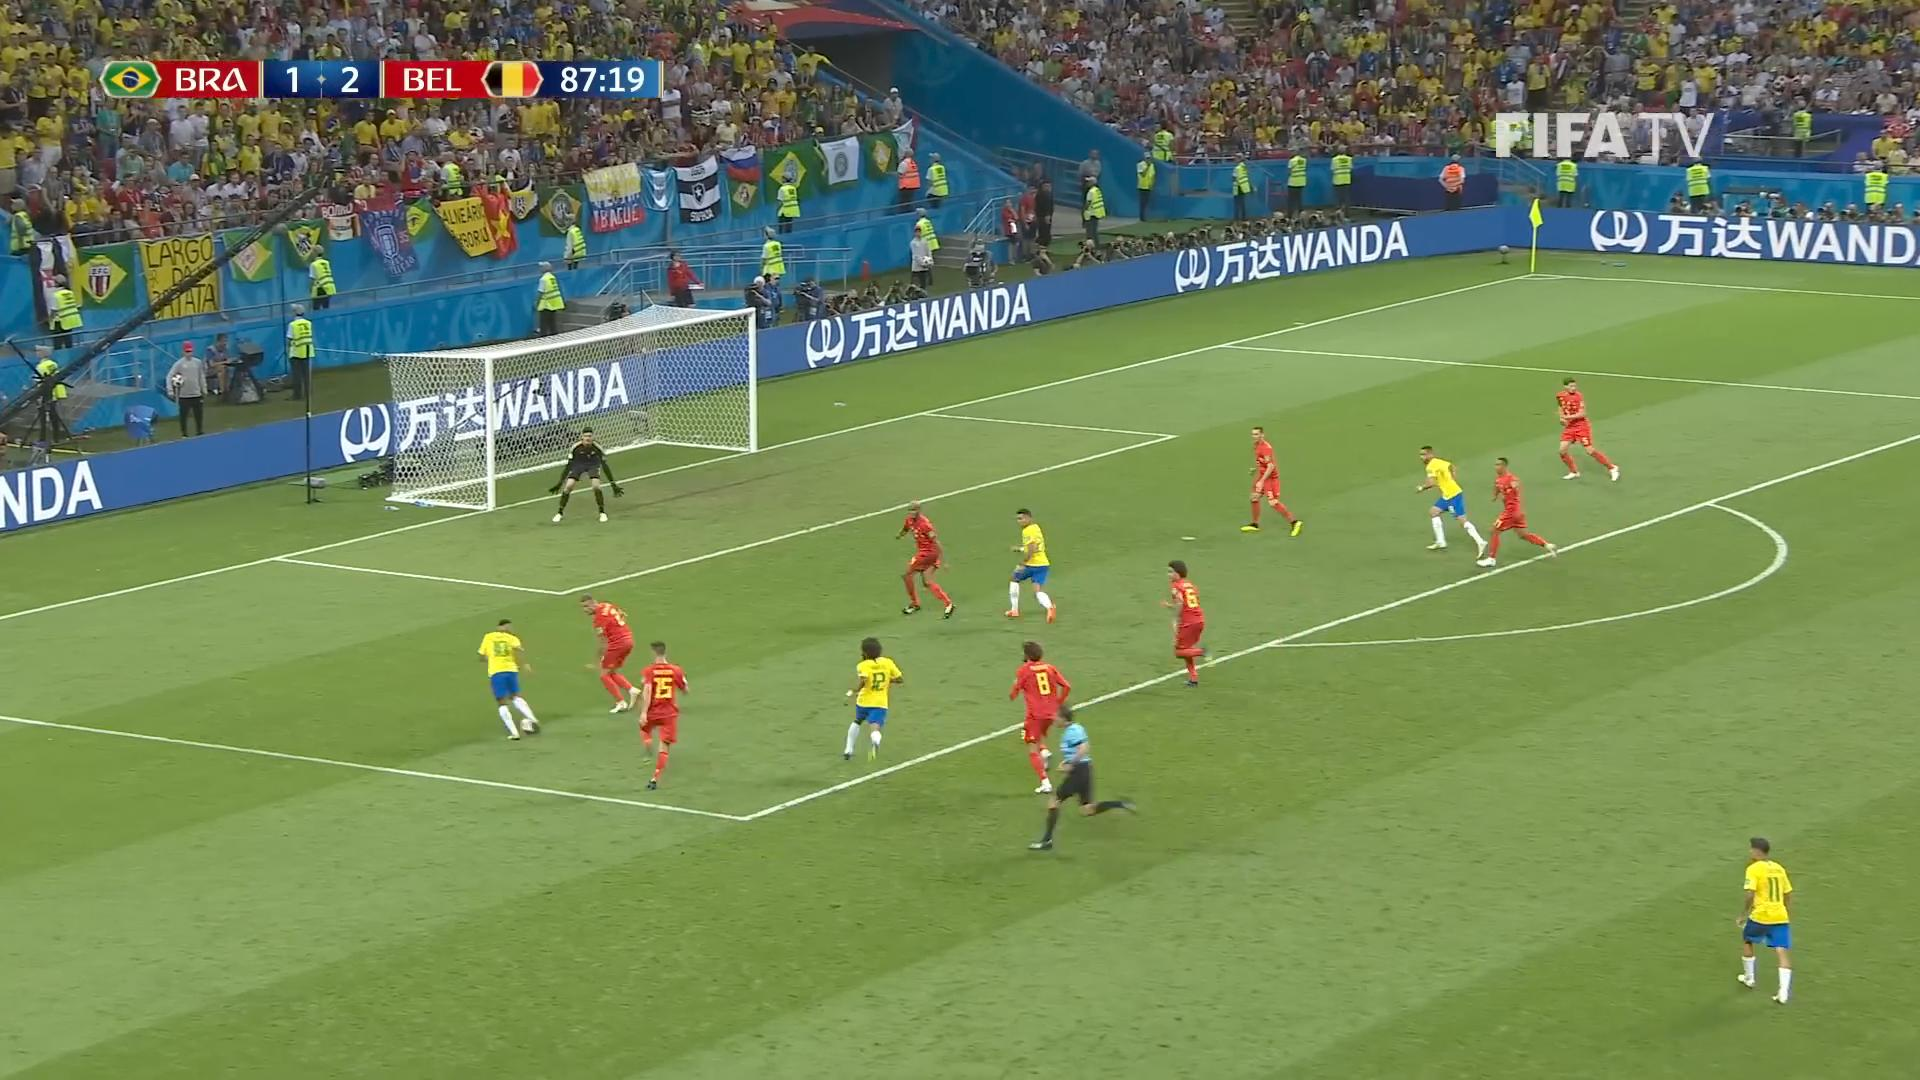ball: (520, 715, 539, 736)
goalkeeper: (547, 425, 624, 523)
player: (1734, 835, 1794, 1004), (1007, 639, 1071, 794), (1474, 455, 1559, 568), (1414, 443, 1488, 559), (634, 639, 689, 790), (476, 617, 539, 741), (841, 636, 903, 761), (578, 593, 640, 714), (1238, 424, 1302, 537), (894, 500, 954, 619), (1555, 375, 1619, 482), (1002, 507, 1056, 623), (1159, 558, 1206, 687)
referee: (1027, 701, 1138, 851)
